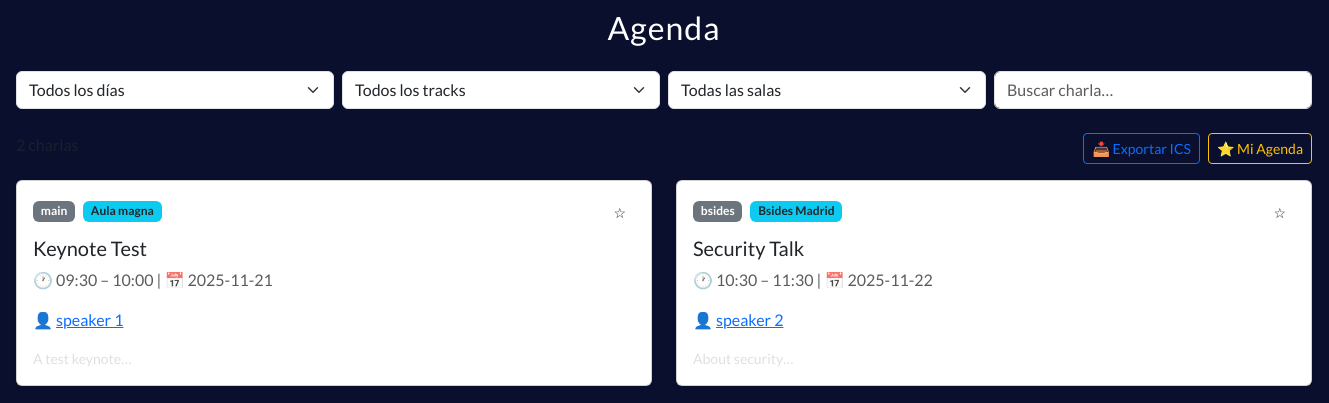
Agenda Page › filters by search
Expected: the heading "Keynote Test" is shown, [33,236,147,260]
Type "Security" into the search field labelled "Buscar charla" at [1153, 90], box [994,71,1312,109]
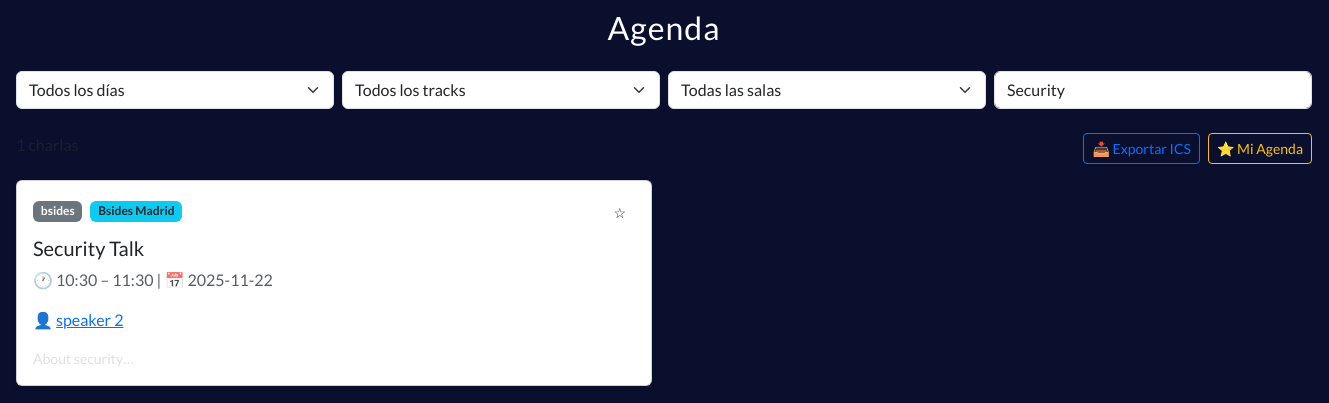
Expected: the heading "Security Talk" is shown, [33,236,144,260]
Now the heading "Keynote Test" is gone
